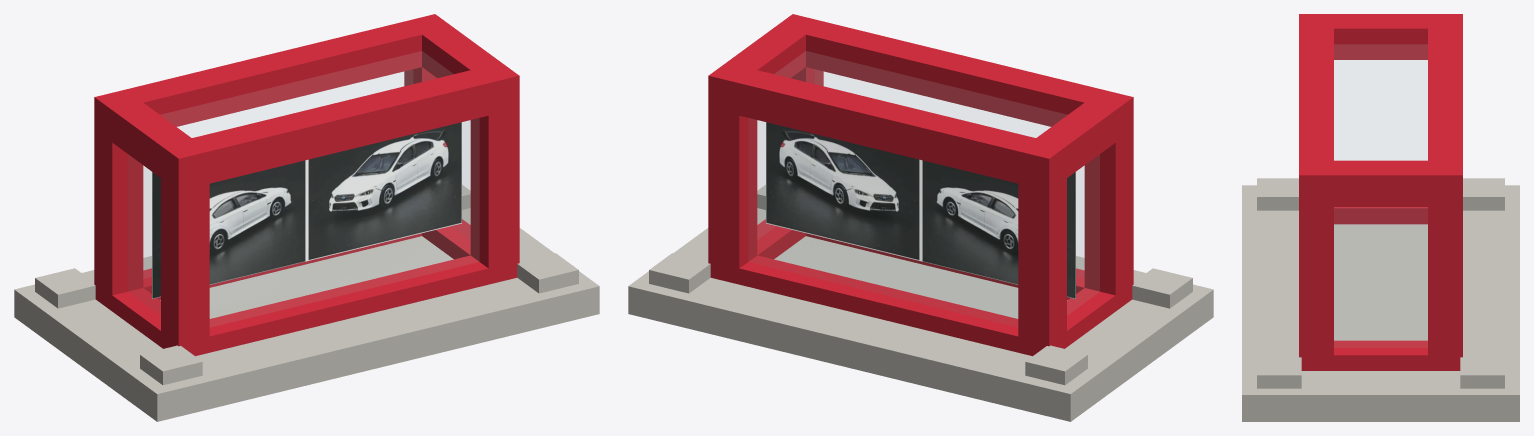
The model's file is subaru-sti-red.glb.
3 renders of one model, left to right at view 1: azimuth 30°, elevation 25°; view 2: azimuth 150°, elevation 25°; view 3: azimuth 270°, elevation 25°, orthographic. The views are drawn at different scales.
Size of the model in its own units: 0.1 by 0.0495 by 0.056.
Materials: 4 (1 with a texture image).
